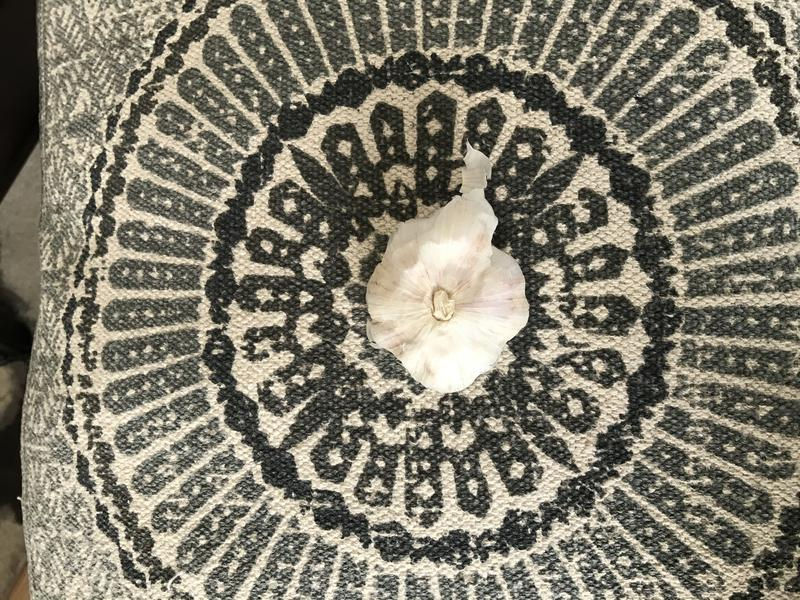garlic: (346, 192, 538, 408)
